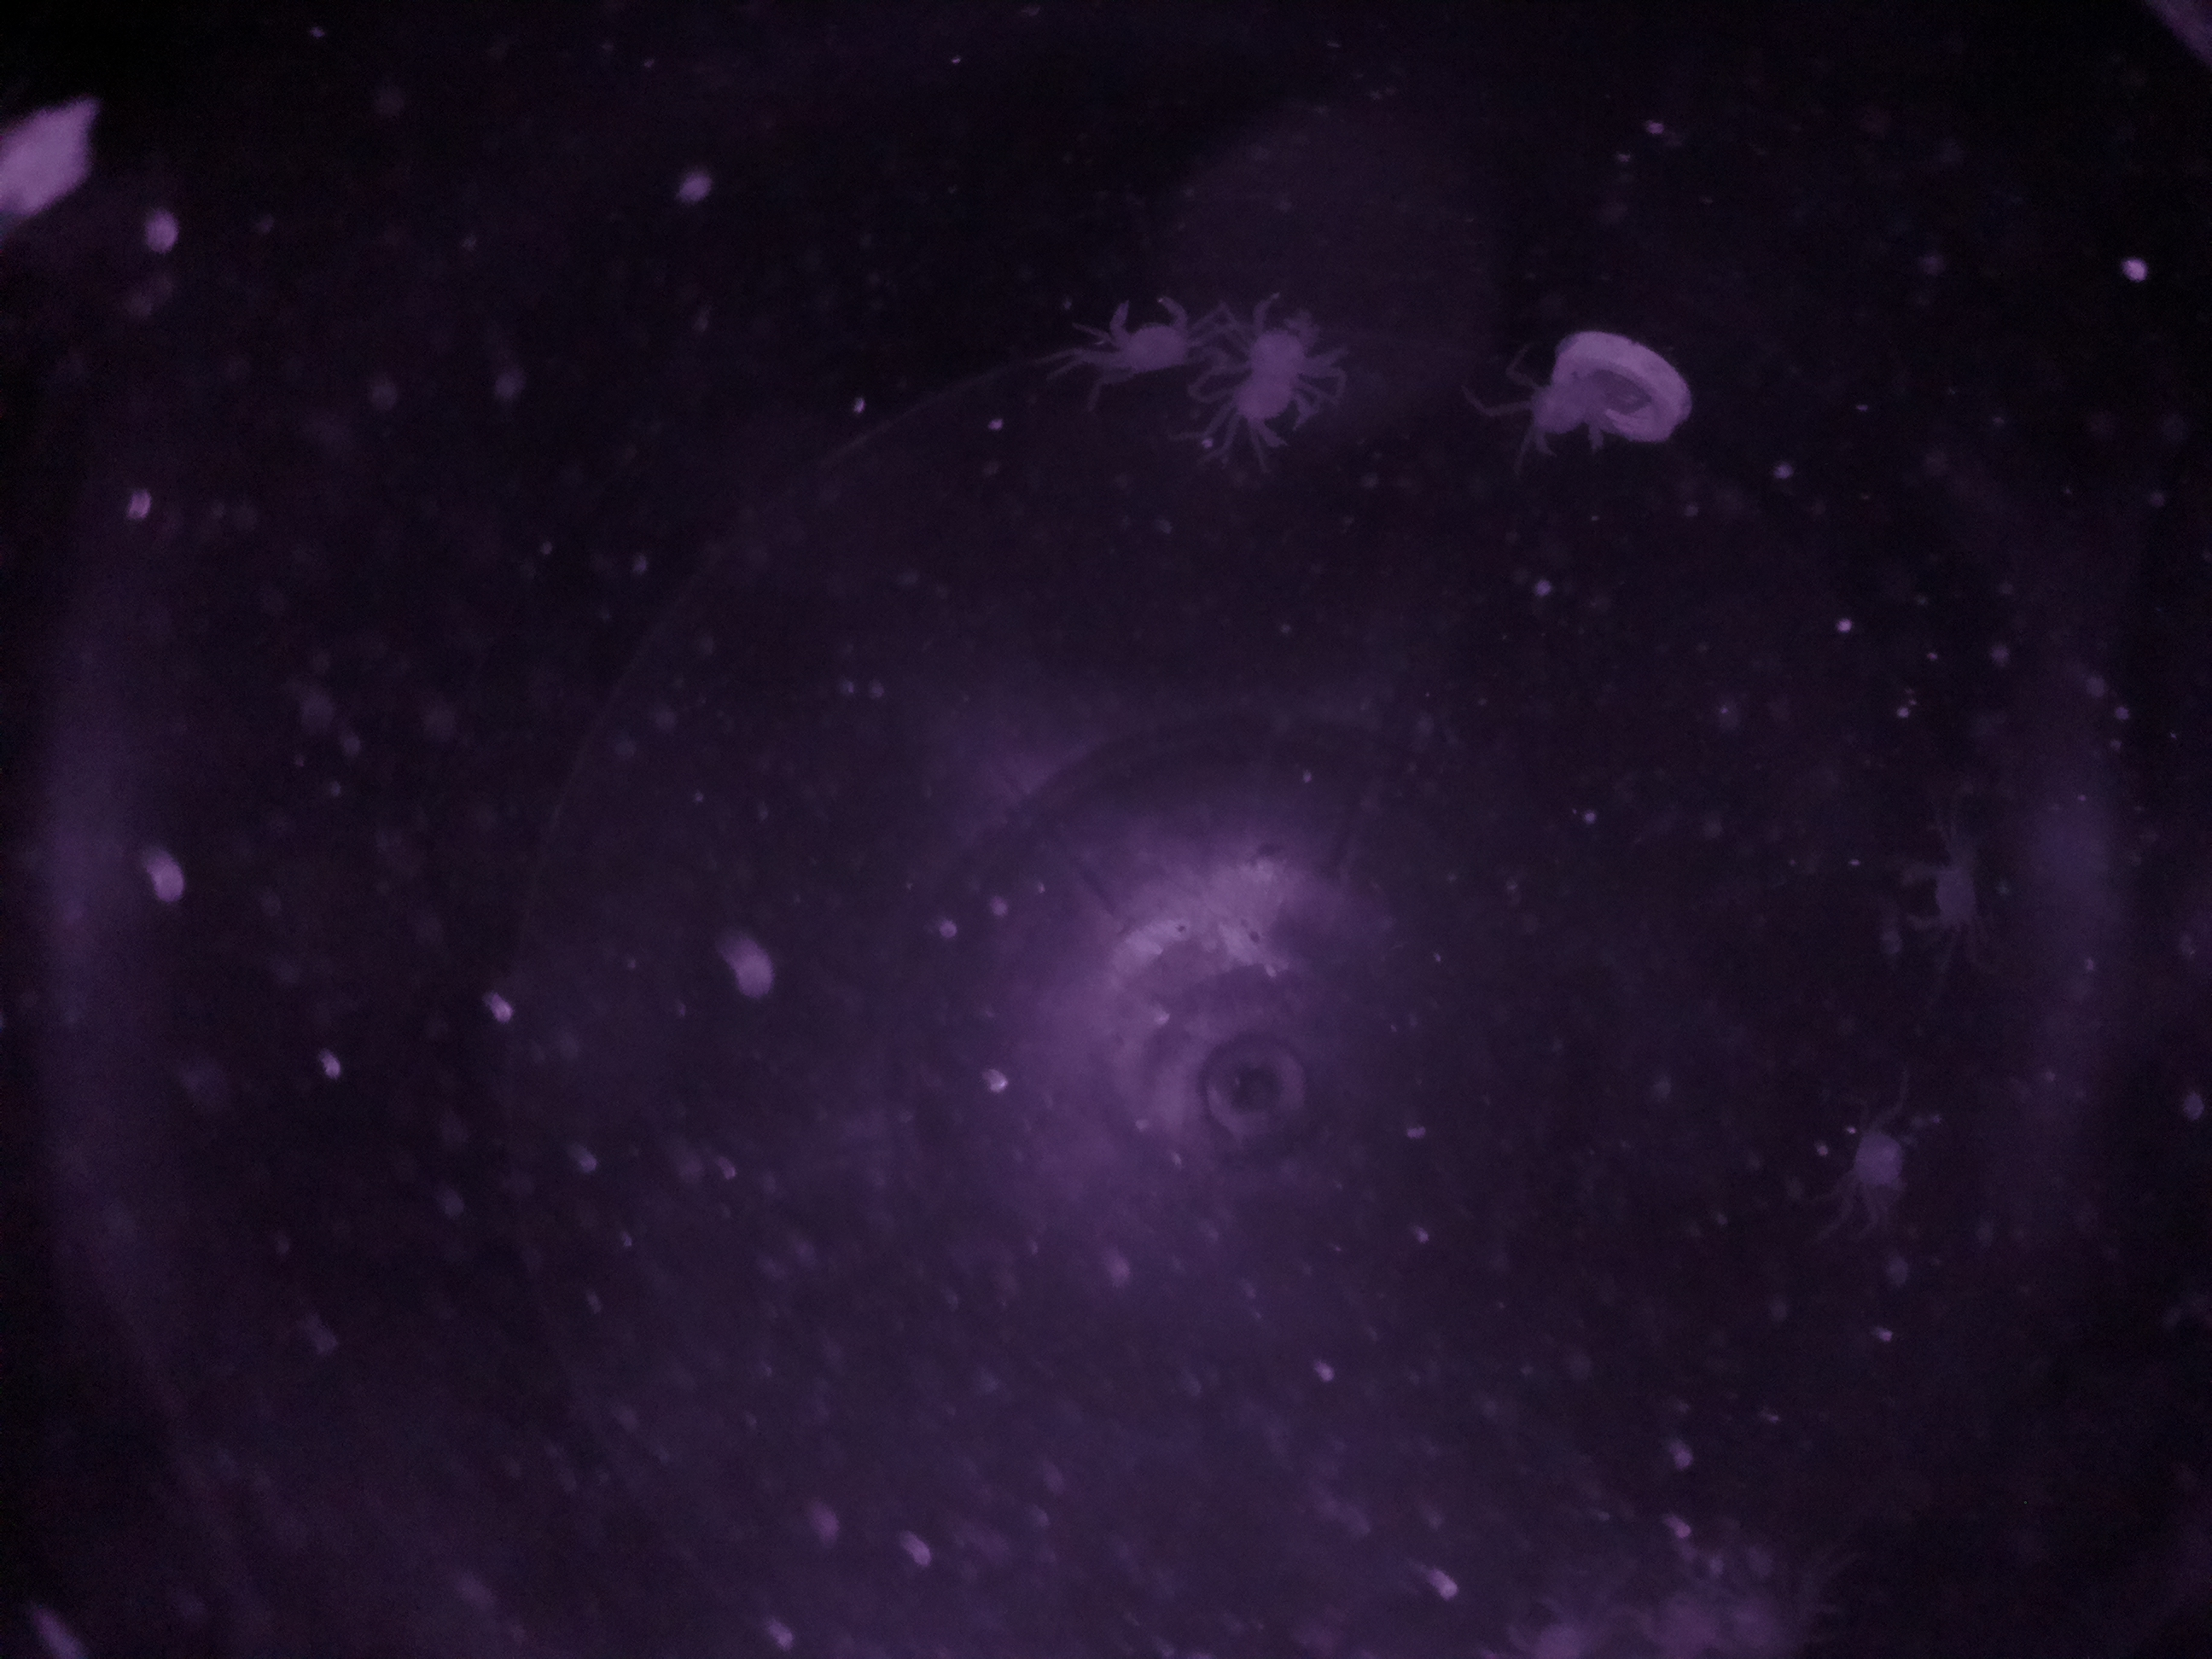Crab: (1089, 274, 1212, 392)
